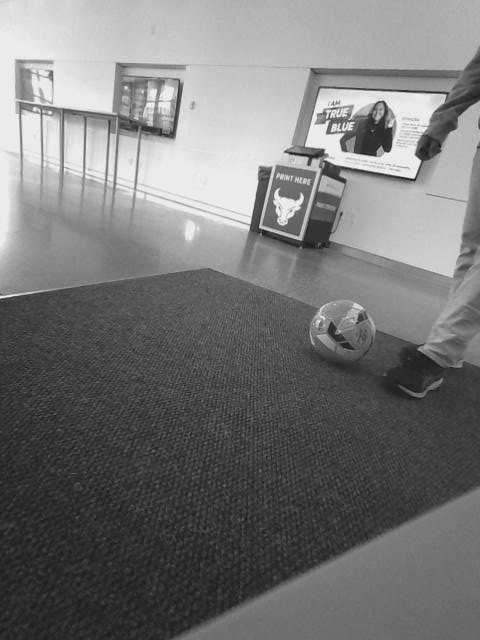ball: (307, 298, 378, 367)
